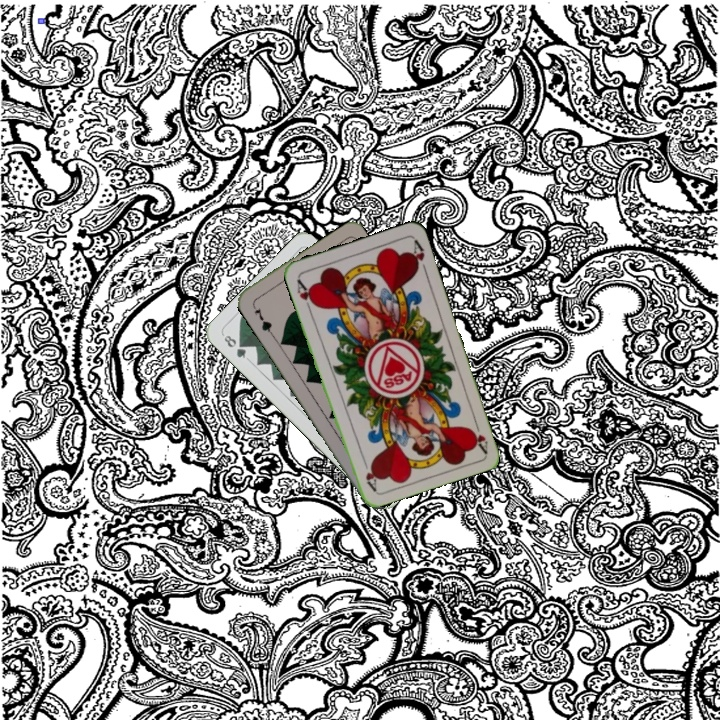G7: (248, 300, 275, 337)
G8: (220, 331, 249, 361)
HA: (466, 415, 491, 455), (293, 275, 318, 314)
